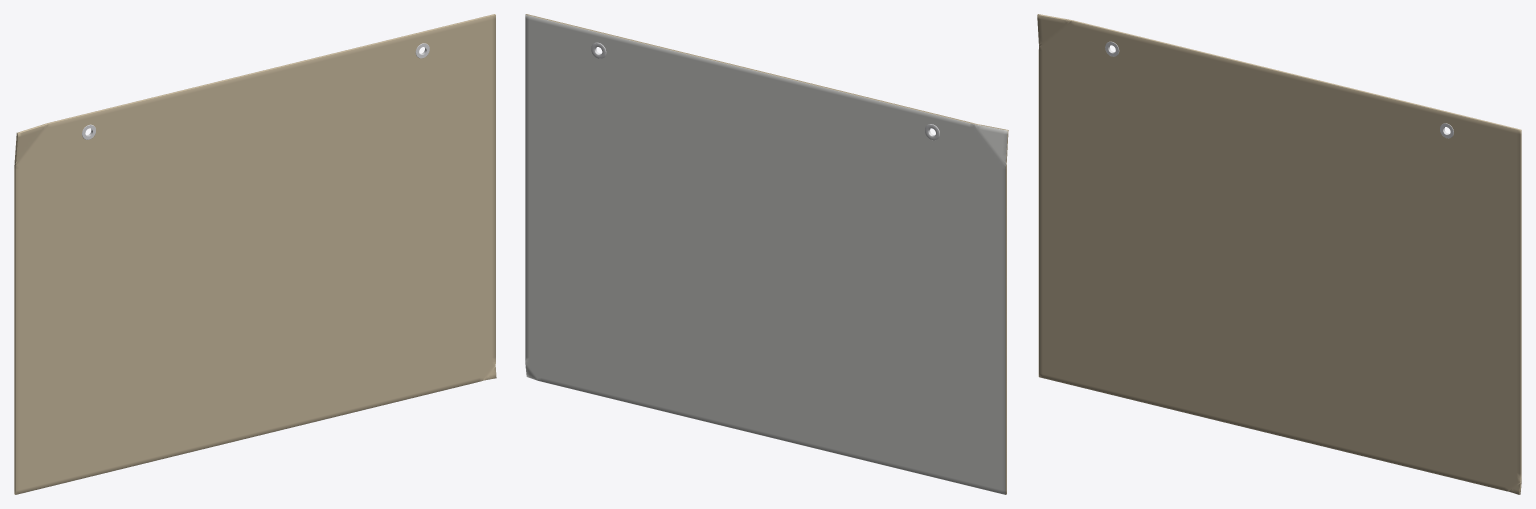
File: Inspect_Poster.fbx
3 renders of one model, left to right at view 1: azimuth 30°, elevation 25°; view 2: azimuth 150°, elevation 25°; view 3: azimuth 330°, elevation 25°, orthographic.
Visible parts, largest first — view 1: Inspect_Poster; view 2: Inspect_Poster; view 3: Inspect_Poster.
Part boxes in pixels (left/top/right/bottom): Inspect_Poster: left=14, top=14, right=496, bottom=494; Inspect_Poster: left=525, top=14, right=1008, bottom=494; Inspect_Poster: left=1037, top=14, right=1521, bottom=494.
Size of the model in its own units: 0.36 by 0.26 by 0.0046.
